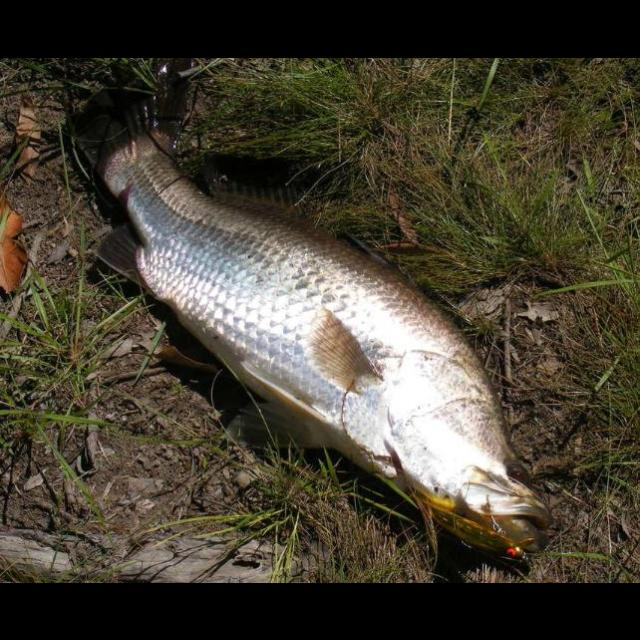Seabass: (65, 84, 553, 566)
